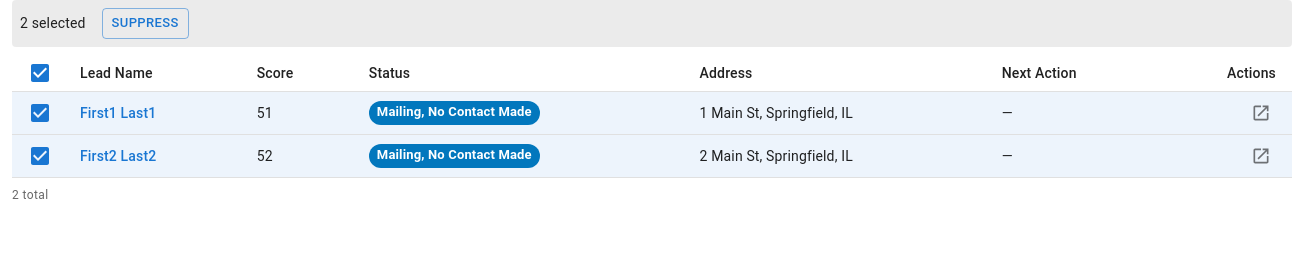
QueueTable › bulk partial failure summary › dismisses bulk message when close button is clicked
Click the button with test id "bulk-suppress" at (145, 23), box [102,8,189,39]
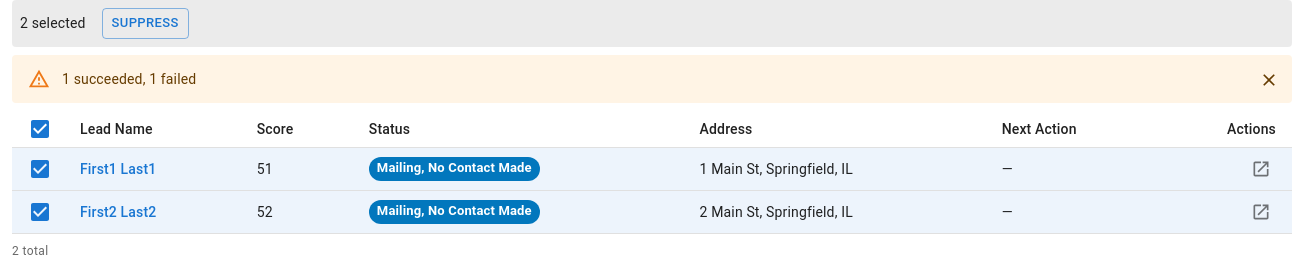
Check: the message "1 succeeded, 1 failed" is shown, box [12,55,1291,103]
Click the button named "Close" at (1269, 80), box [1254,65,1284,95]
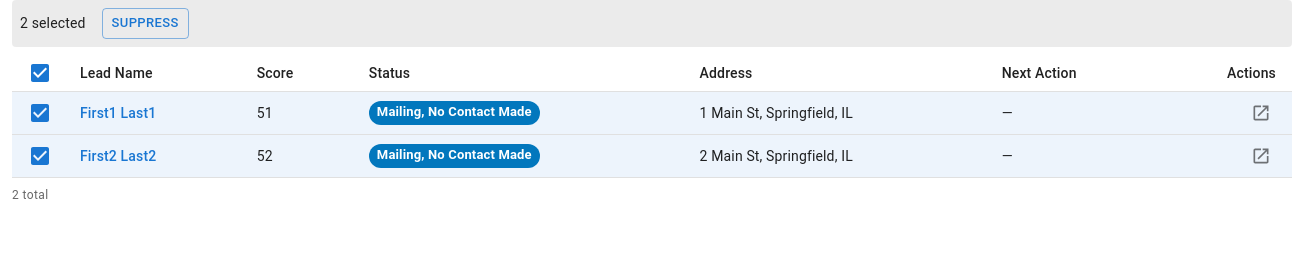
Check: the message with test id "bulk-action-message" is gone
